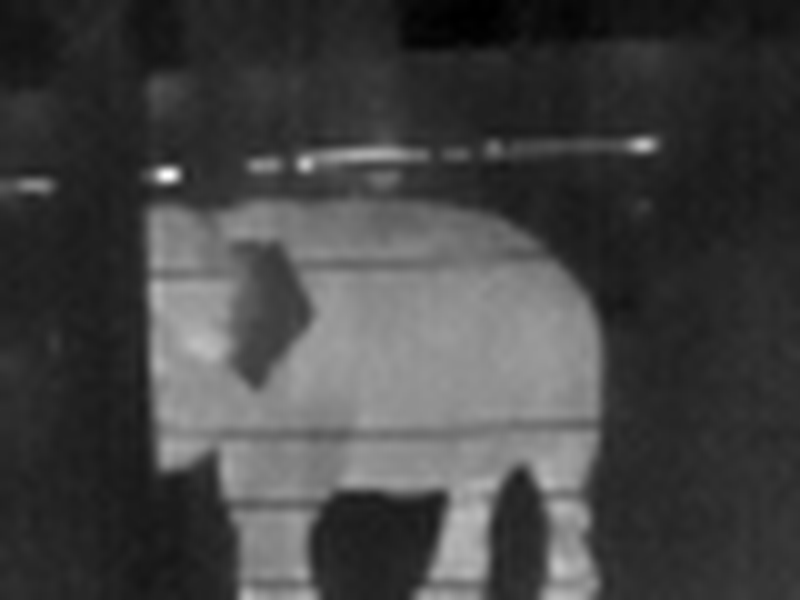elephant: (69, 194, 617, 596)
